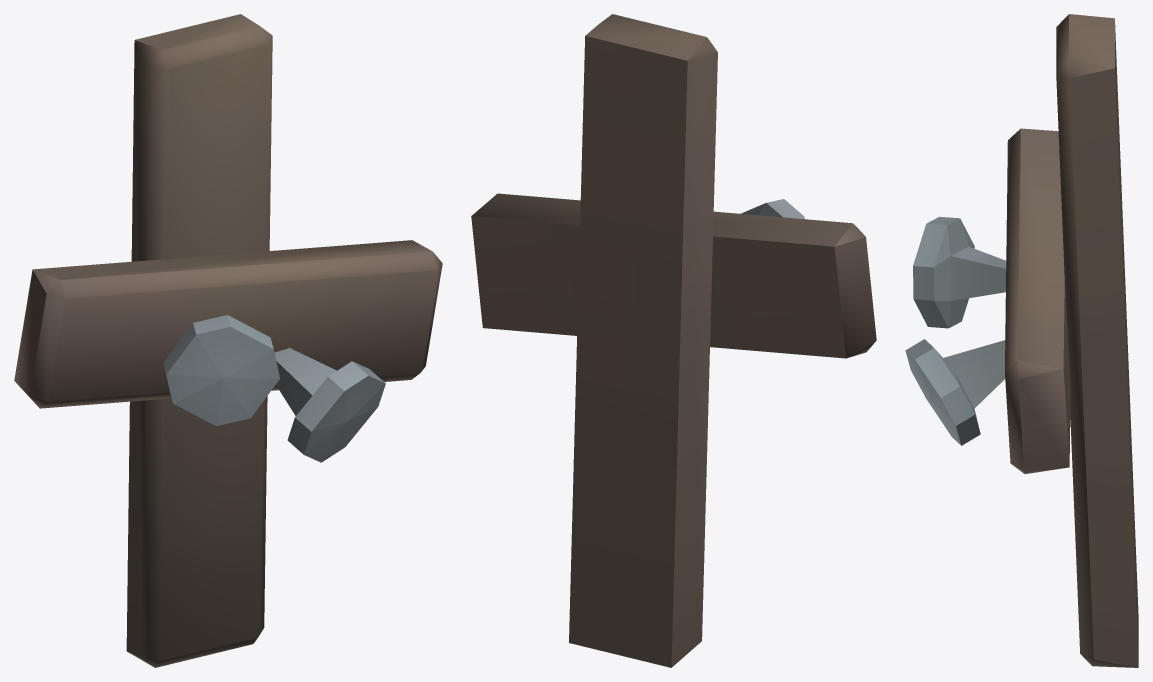
The model's file is kay-cruz-tumulo-torta.gltf.
3 renders of one model, left to right at view 1: azimuth 30°, elevation 25°; view 2: azimuth 150°, elevation 25°; view 3: azimuth 270°, elevation 25°, orthographic. The views are drawn at different scales.
Visible parts, largest first — view 1: gravemarker_B; view 2: gravemarker_B; view 3: gravemarker_B.
Boxes of the visible parts, box(x1,y1,x2,y2) form: gravemarker_B: box(14, 14, 442, 667); gravemarker_B: box(471, 14, 876, 667); gravemarker_B: box(905, 14, 1138, 667).
Bounding box in the file's own units: 0.4014 × 0.5897 × 0.2066.
1 material, 1 textured.
